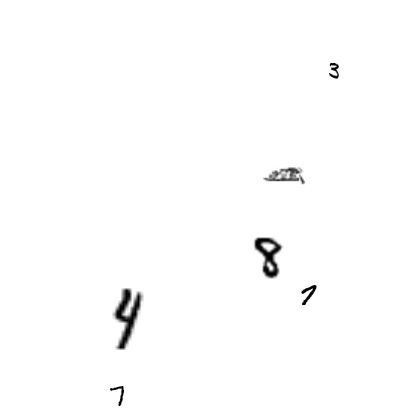3: (323, 59, 345, 81)
4: (83, 271, 167, 355)
7: (105, 379, 133, 407), (294, 279, 322, 307)
8: (239, 226, 295, 282)
Sandal: (263, 154, 305, 196)
